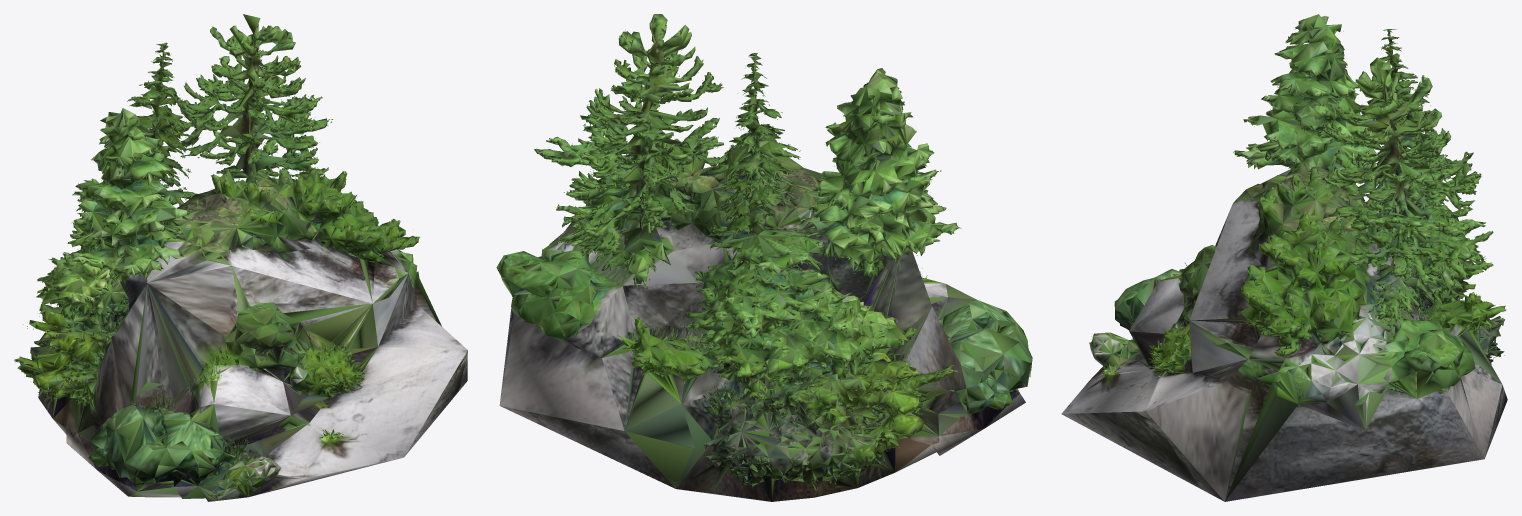
File: Pine_Trees_on_a_Rocky.glb
3 views of the same model, side by side, from view 1: azimuth 30°, elevation 25°; view 2: azimuth 150°, elevation 25°; view 3: azimuth 270°, elevation 25° (orthographic). The views are drawn at different scales.
Parts seen in each view (by area): view 1: Pine_Trees_on_a_Rocky; view 2: Pine_Trees_on_a_Rocky; view 3: Pine_Trees_on_a_Rocky.
Part boxes in pixels (<box>): Pine_Trees_on_a_Rocky: <box>14,14,467,501</box>; Pine_Trees_on_a_Rocky: <box>496,14,1032,501</box>; Pine_Trees_on_a_Rocky: <box>1061,14,1507,501</box>.
Size of the model in its own units: 1.92 by 1.74 by 1.86.
Materials: 1 (1 with a texture image).
